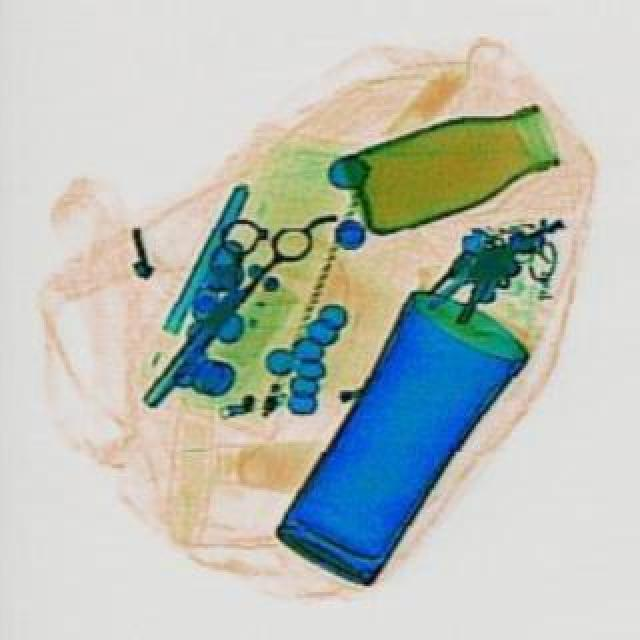pliers: (184, 200, 316, 332)
